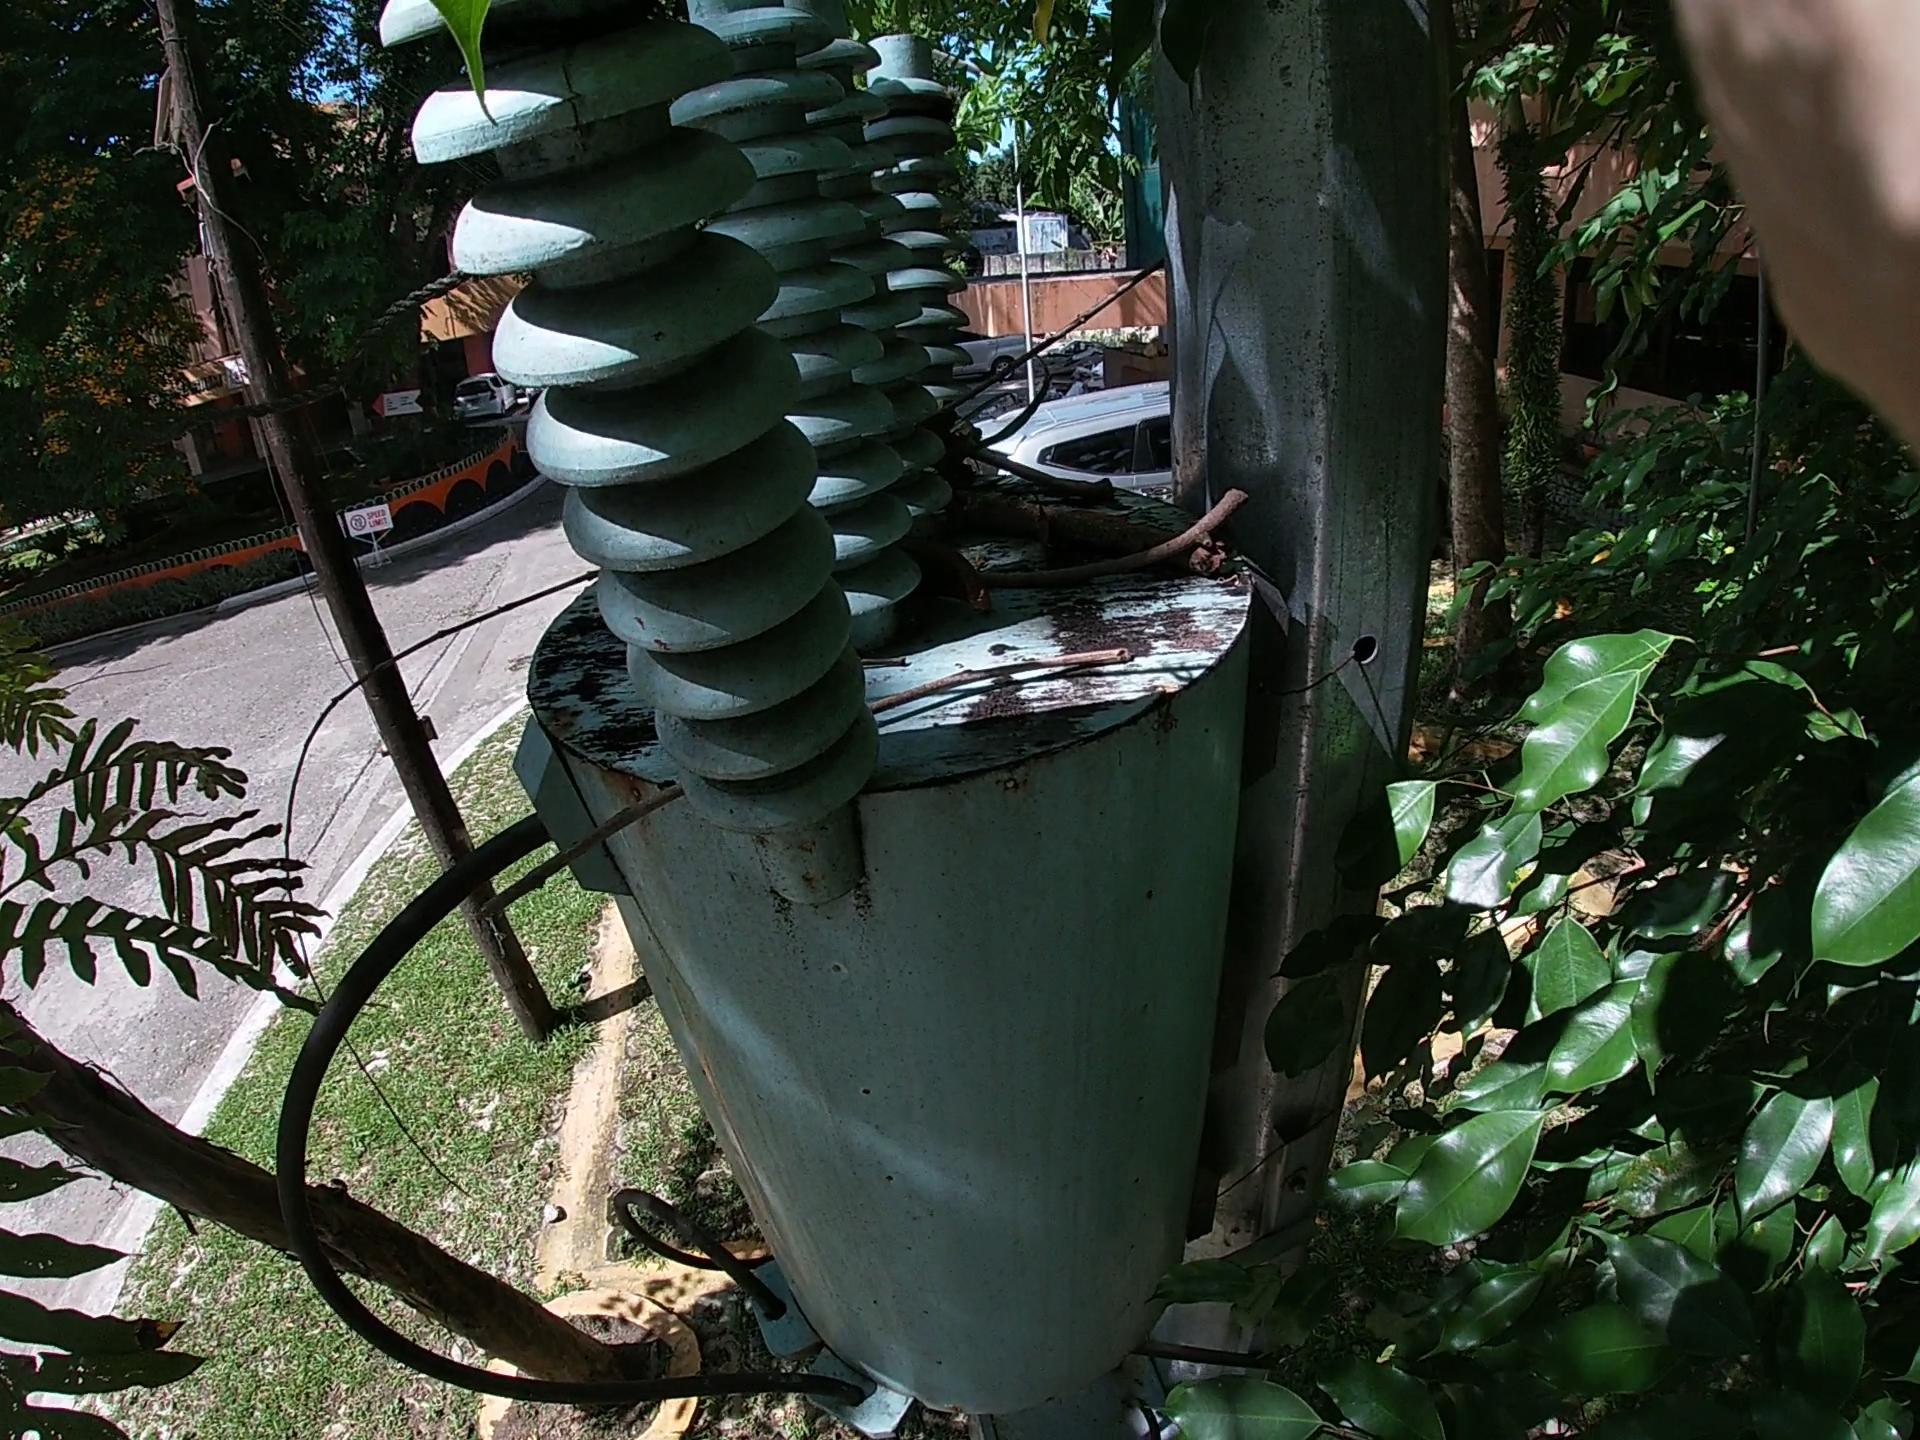branch with leaves: (931, 442, 1170, 569)
leaf: (1058, 469, 1114, 573)
tree branch: (522, 629, 1143, 891), (865, 234, 1223, 451), (930, 446, 1284, 584), (839, 390, 1154, 520)
